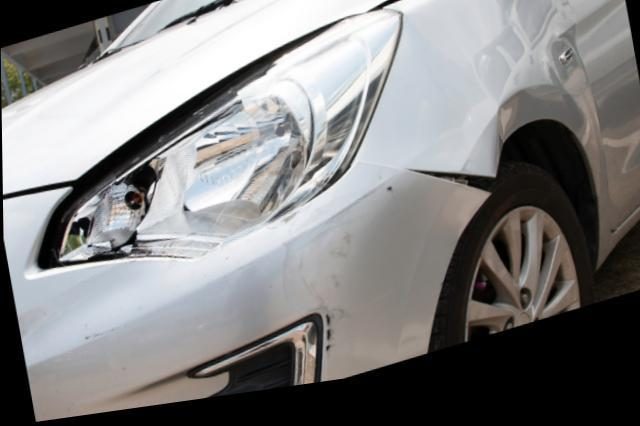dent: (492, 99, 587, 193)
dislocated part: (2, 176, 492, 423)
lamp broken: (34, 18, 401, 273)
scratch: (263, 202, 389, 368)
